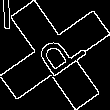P_SW: (24, 26, 86, 84)
